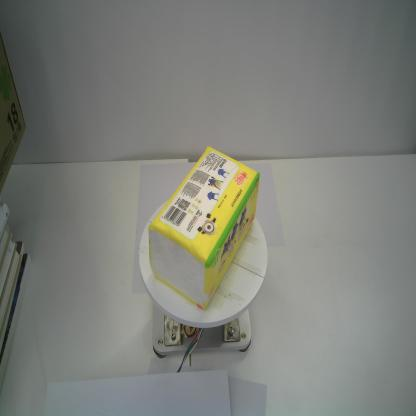Tissue: (147, 146, 261, 310)
